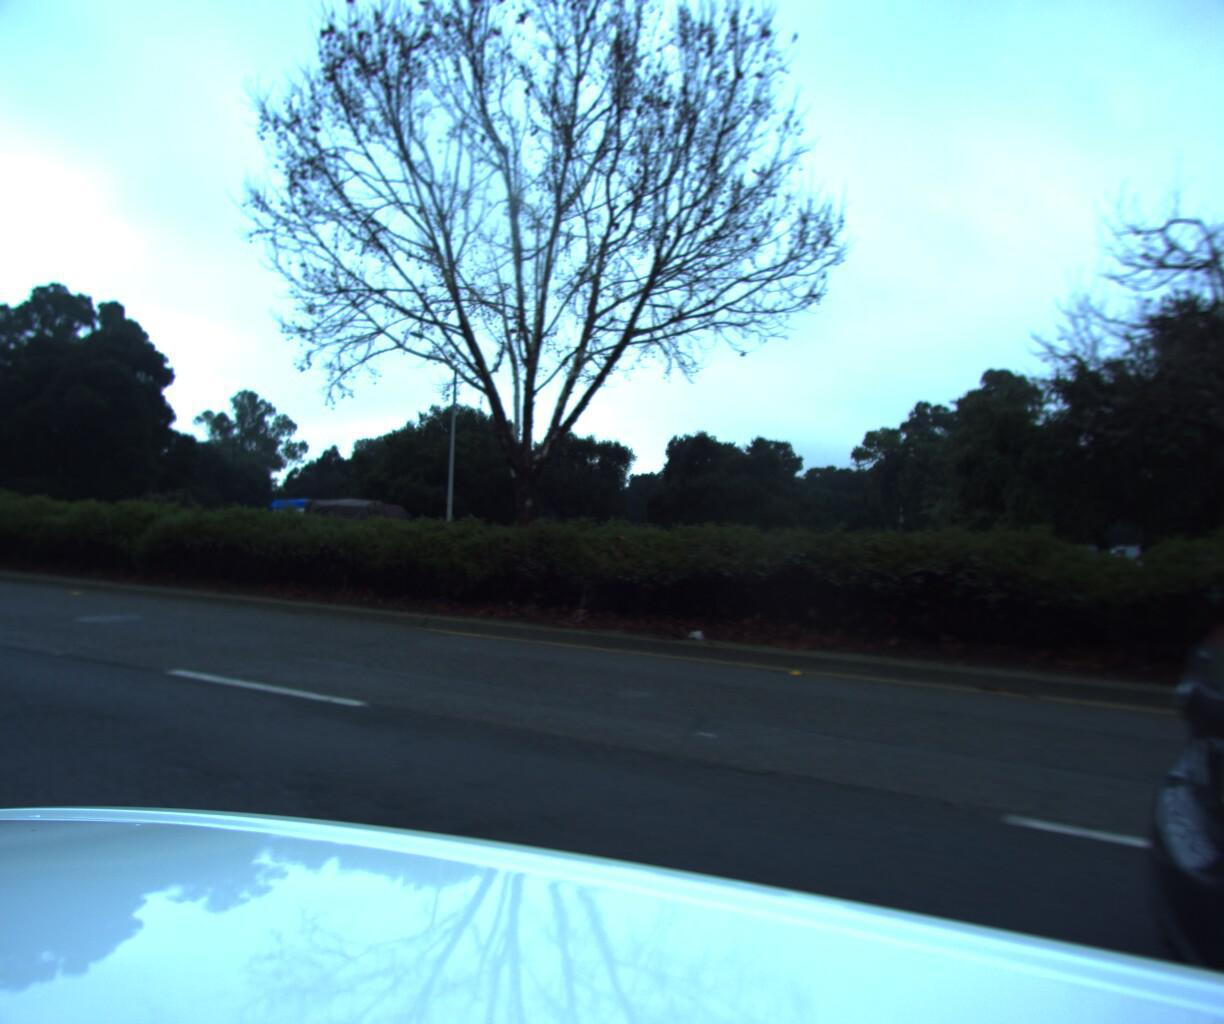other_vehicle: (257, 490, 412, 559)
